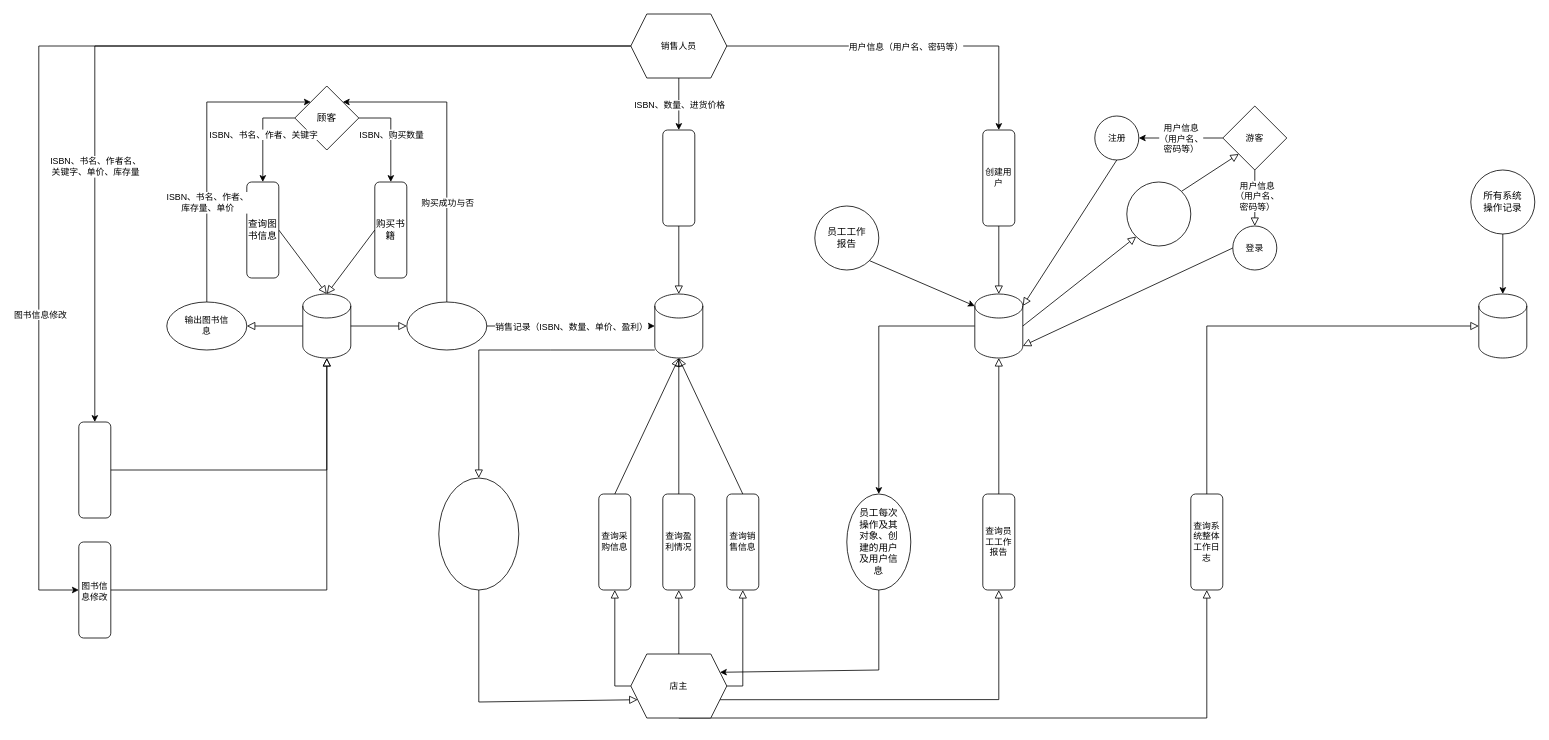
Image size: 1549x740. Some labels were removed from this diagram. Here are the shapes that lost their labels. From the top down, the box of each, then its label:
(662, 129, 695, 226): 进货
(1126, 181, 1191, 246): 注册/登录成功反馈
(302, 293, 351, 358): 图书信息库
(406, 301, 487, 350): 购买反馈
(654, 293, 703, 358): 销售信息库
(974, 293, 1023, 358): 用户信息库
(1478, 293, 1527, 358): 系统工作日志
(78, 421, 111, 518): 图书信息录入
(438, 477, 519, 590): 查询信息反馈：按采购/销售顺序输出ISBN、数量、单价或输出收入、支出、利润
